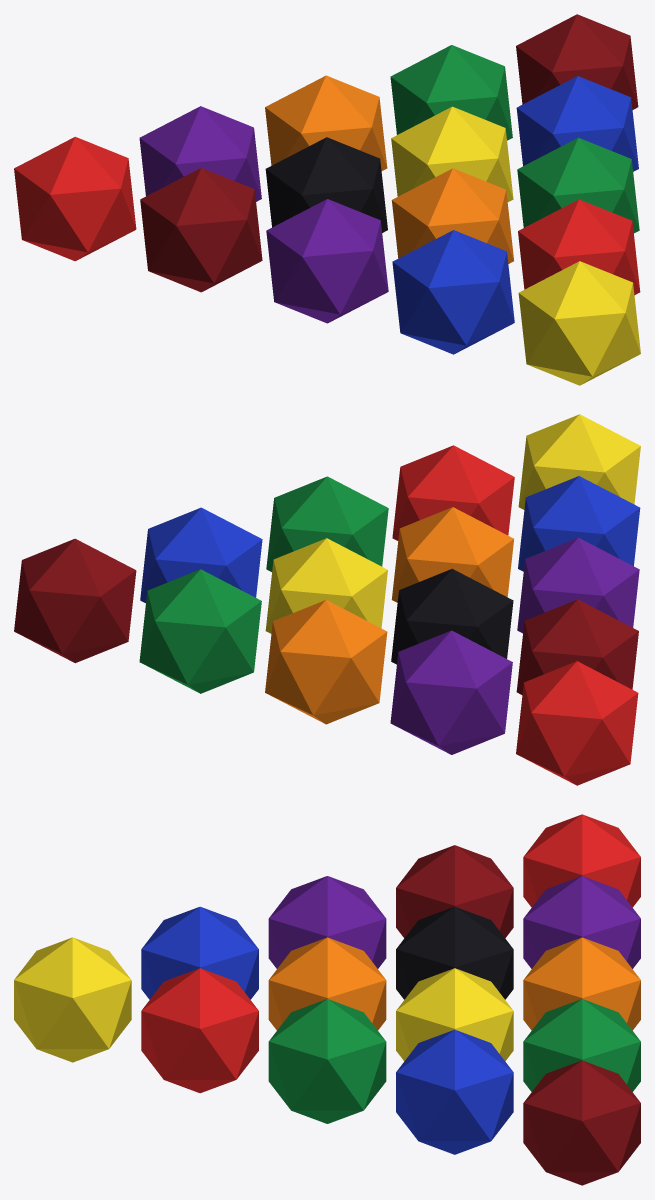
File: pool_balls_rack.glb
The picture shows the model from 3 angles, top to bottom: view 1: azimuth 30°, elevation 25°; view 2: azimuth 150°, elevation 25°; view 3: azimuth 270°, elevation 25°; orthographic projection.
Visible parts, largest first — view 1: pool_balls_rack; view 2: pool_balls_rack; view 3: pool_balls_rack.
Boxes of the visible parts, x1,y1,x2,y2 form: pool_balls_rack: (14, 14, 640, 385); pool_balls_rack: (14, 414, 640, 785); pool_balls_rack: (14, 814, 640, 1185).
Bounding box in the file's own units: 0.582 × 0.114 × 0.517.
